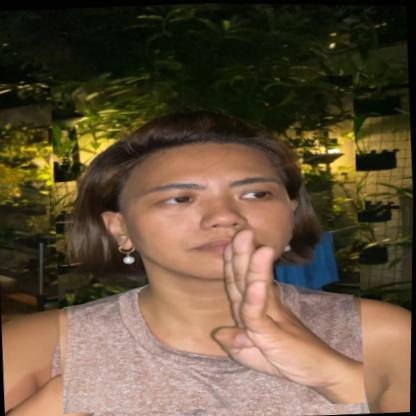Talk: (46, 70, 369, 416)
